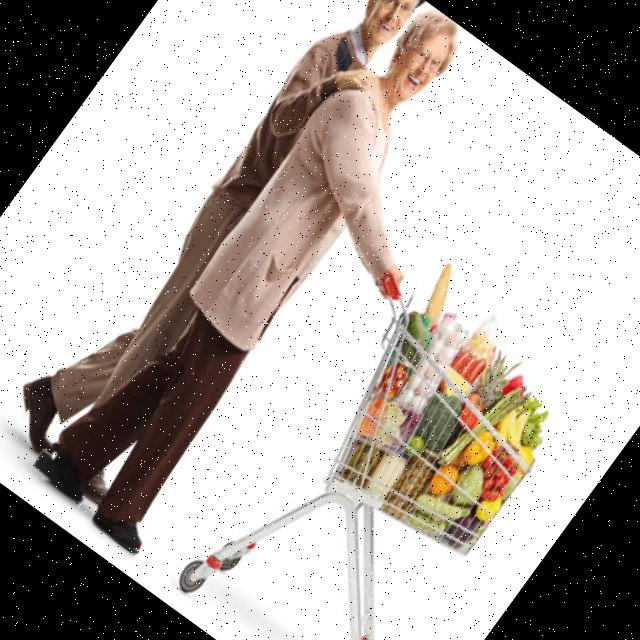Person: (26, 0, 542, 587), (0, 0, 450, 502)
